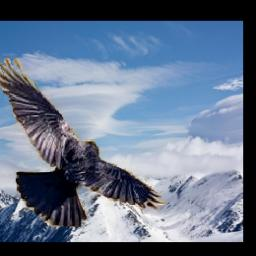Crow: (0, 50, 169, 227)
